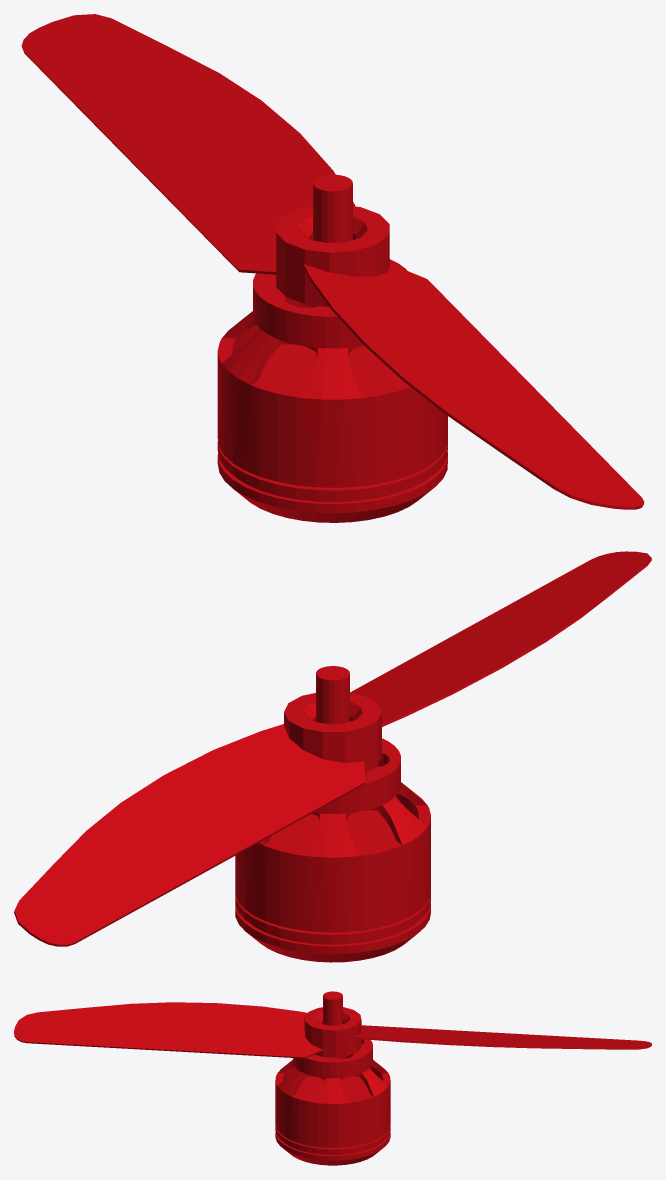
Rendered from motor3.dae.
The picture shows the model from 3 angles, top to bottom: view 1: azimuth 30°, elevation 25°; view 2: azimuth 150°, elevation 25°; view 3: azimuth 270°, elevation 25°; orthographic projection. The views are drawn at different scales.
Visible parts, largest first — view 1: motor3; view 2: motor3; view 3: motor3.
Part boxes in pixels (x1,y1,x2,y2): motor3: (21, 14, 644, 522); motor3: (14, 551, 651, 962); motor3: (14, 991, 651, 1165).
Bounding box in the file's own units: 0.023 × 0.1273 × 0.0348.
